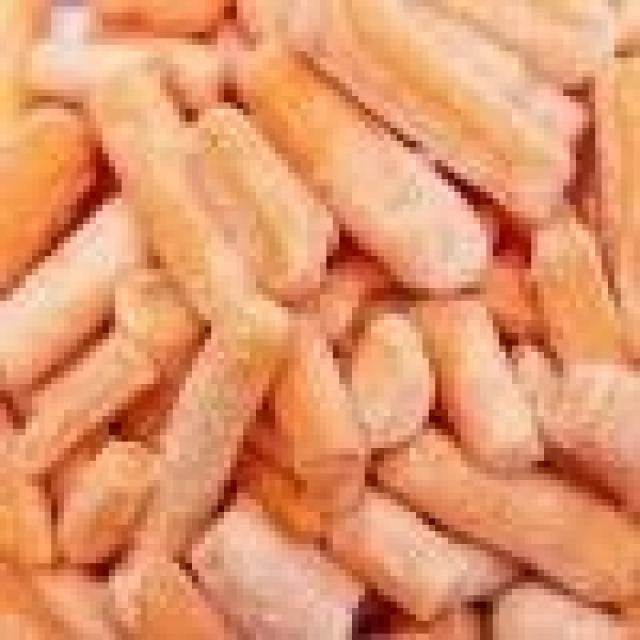Stale_Carrot: (234, 67, 481, 284), (85, 70, 260, 335)
